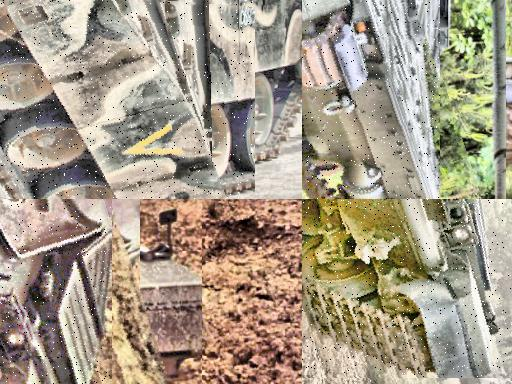tanks: (1, 1, 230, 200), (303, 200, 498, 378), (303, 1, 441, 200), (1, 200, 112, 384), (489, 1, 507, 200)
